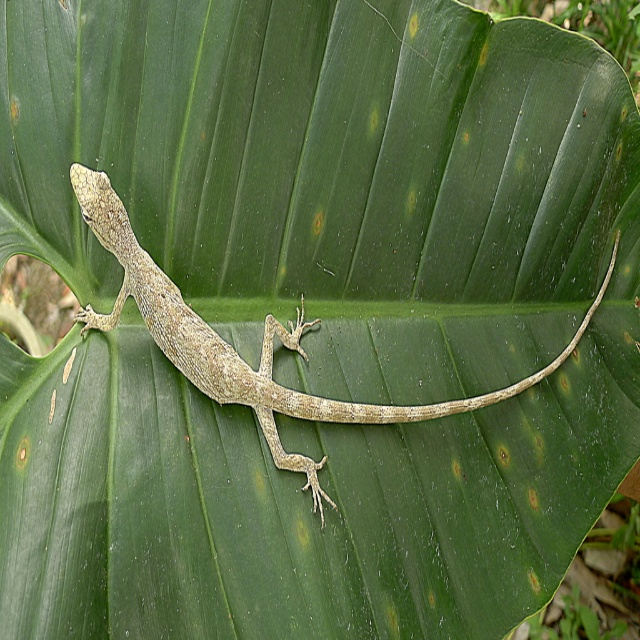Lizard: (69, 161, 619, 526)
